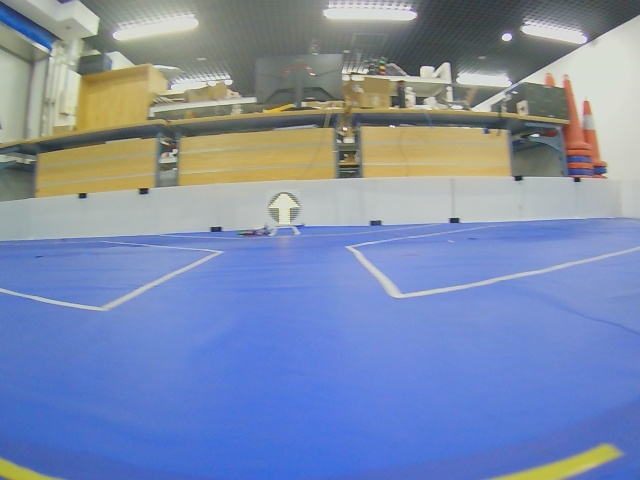straight_yellow: (268, 192, 300, 225)
